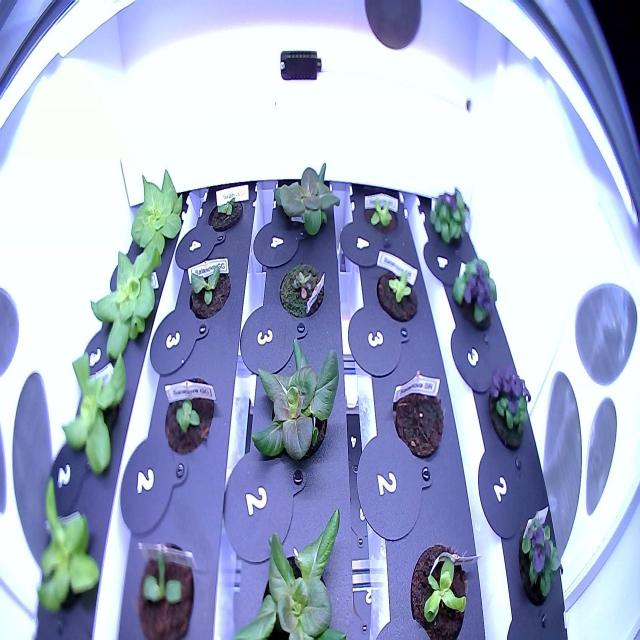germination: (132, 534, 198, 635)
pod: (389, 364, 449, 468)
young: (223, 495, 356, 640), (249, 321, 344, 477), (29, 473, 105, 628), (85, 238, 169, 370), (52, 344, 131, 478), (267, 147, 344, 252), (405, 534, 472, 638), (156, 363, 218, 463), (124, 162, 184, 264), (184, 257, 236, 325), (373, 259, 422, 329), (277, 258, 328, 322), (361, 182, 402, 244), (205, 188, 247, 238)
